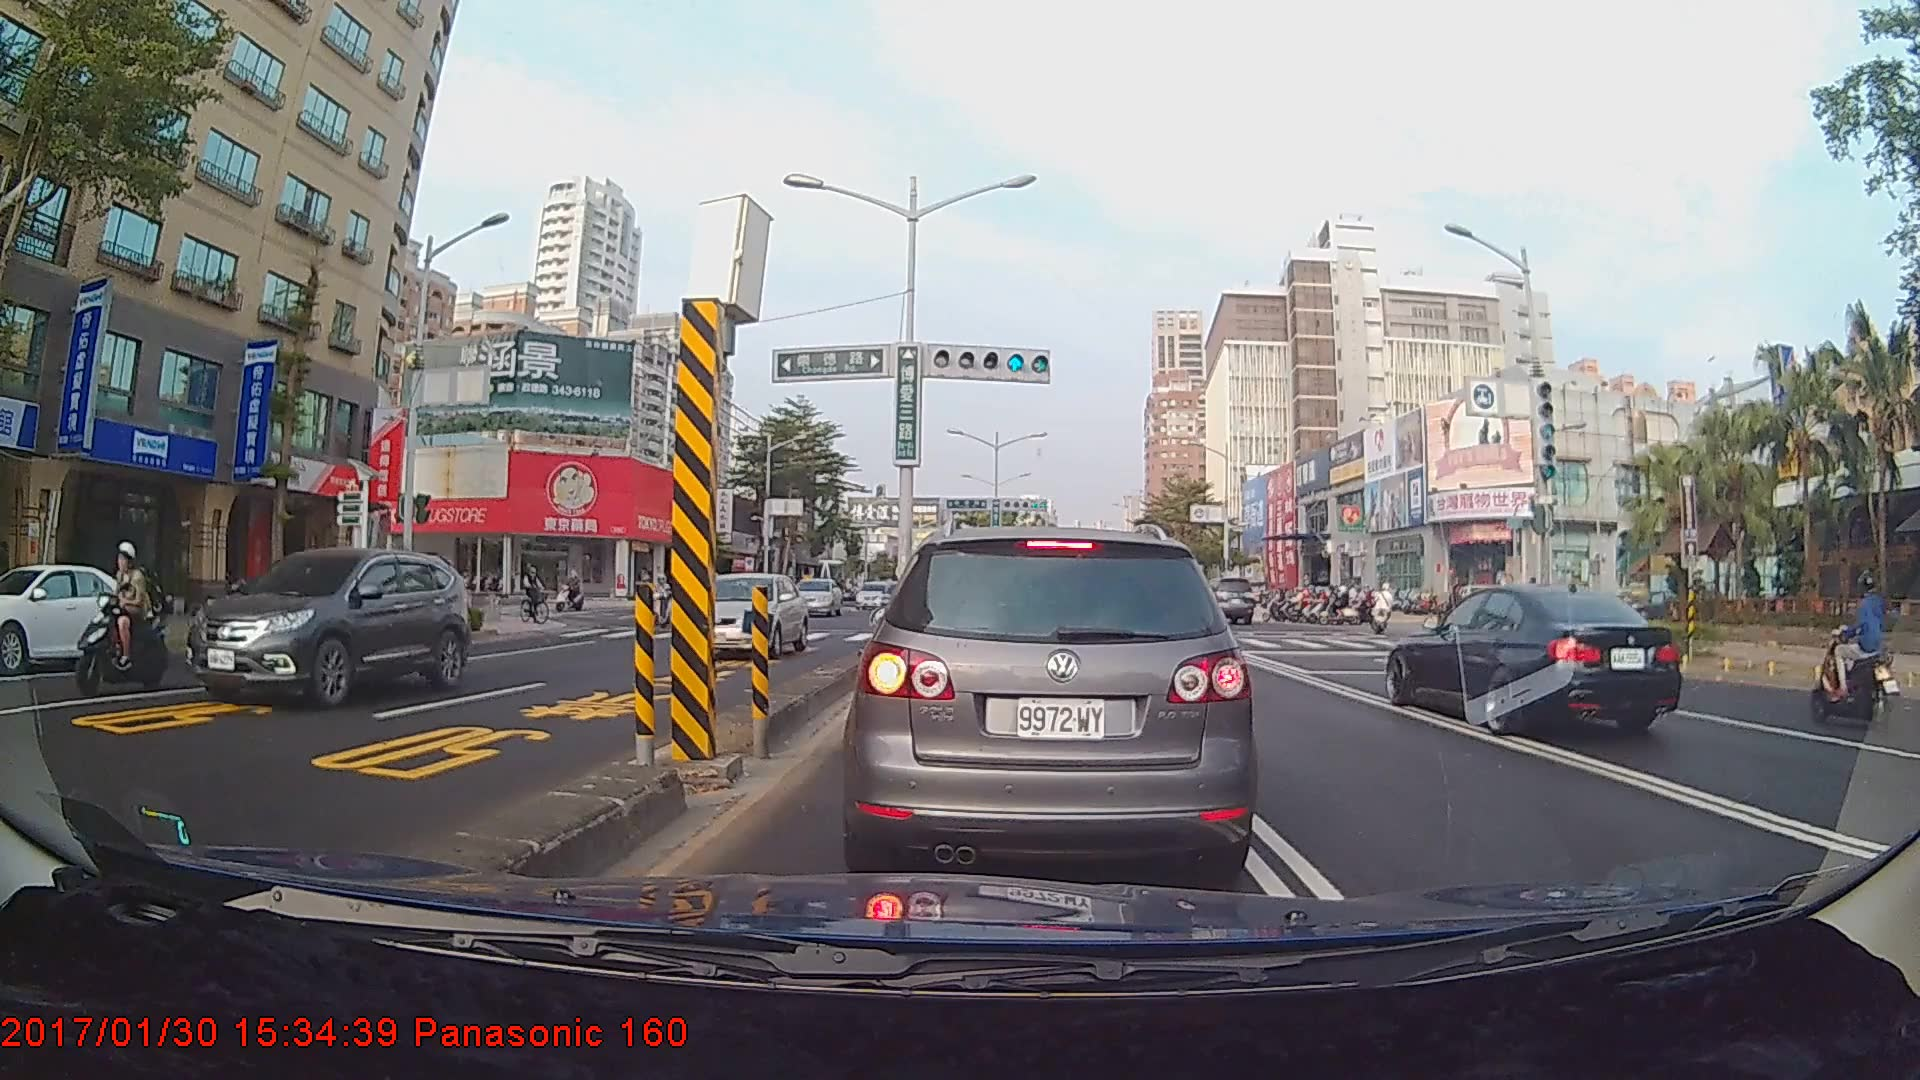rider: (1807, 568, 1905, 730), (74, 544, 170, 694), (380, 564, 449, 657), (518, 559, 561, 629), (1436, 582, 1473, 646), (1366, 582, 1401, 642), (554, 570, 591, 614)
vehicle: (852, 521, 1254, 881), (184, 545, 471, 710), (1384, 580, 1683, 736), (0, 561, 157, 671), (672, 570, 809, 662), (785, 576, 841, 618), (1206, 574, 1253, 624)
